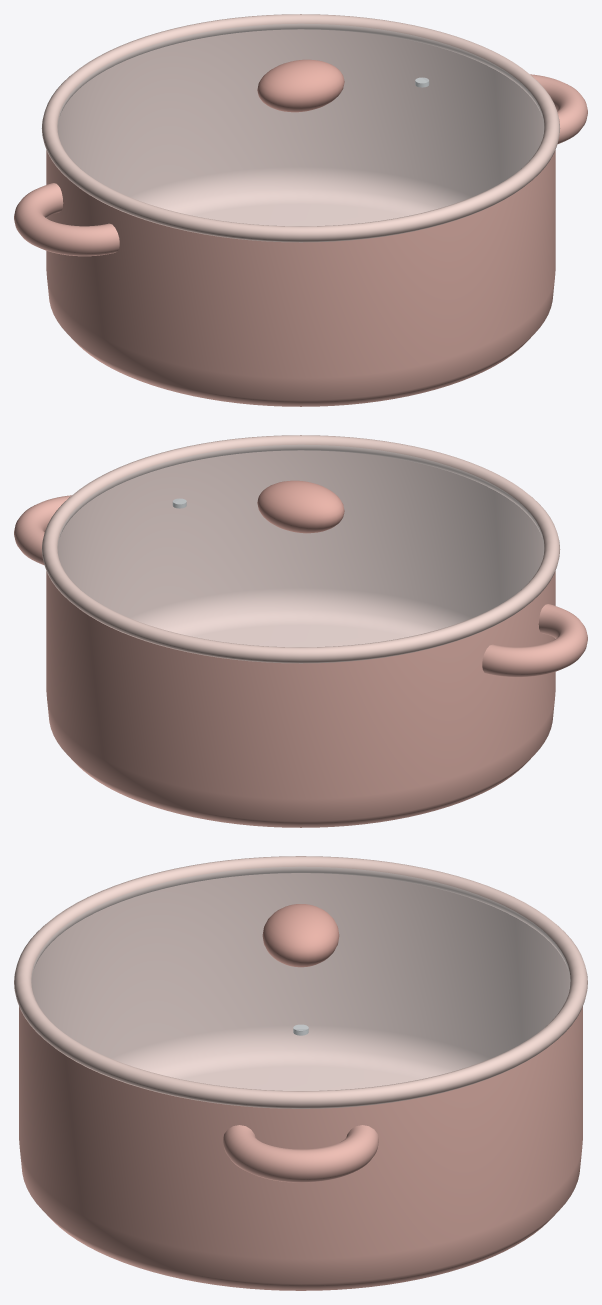
Rendered from retro.glb.
The picture shows the model from 3 angles, top to bottom: view 1: azimuth 30°, elevation 25°; view 2: azimuth 150°, elevation 25°; view 3: azimuth 270°, elevation 25°; orthographic projection. The views are drawn at different scales.
Parts seen in each view (by area): view 1: Shell, LidGlass, Interior, LidRim, Handle (×2), Knob; view 2: Shell, LidGlass, Interior, LidRim, Handle (×2), Knob; view 3: Shell, LidGlass, Interior, LidRim, Handle, Knob.
Part boxes in pixels (x1,y1,x2,y2): Shell: [46, 150, 555, 406]; LidGlass: [58, 24, 543, 225]; Interior: [58, 29, 543, 226]; LidRim: [41, 14, 560, 242]; Handle (×2): [14, 74, 587, 256]; Knob: [257, 59, 344, 112]; Shell: [46, 571, 555, 827]; LidGlass: [58, 445, 543, 646]; Interior: [58, 450, 543, 647]; LidRim: [41, 435, 560, 663]; Handle (×2): [14, 495, 587, 677]; Knob: [257, 480, 344, 533]; Shell: [19, 1006, 582, 1290]; LidGlass: [31, 867, 570, 1090]; Interior: [32, 873, 569, 1090]; LidRim: [14, 856, 587, 1108]; Handle: [223, 1125, 378, 1182]; Knob: [262, 904, 339, 967].
Size of the model in its own units: 0.277 by 0.116 by 0.224.
